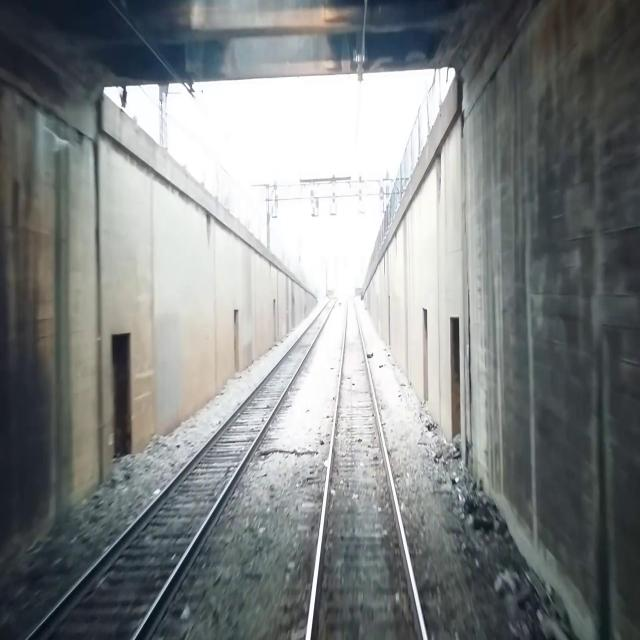rail-track: (30, 298, 335, 639), (311, 300, 423, 639)
